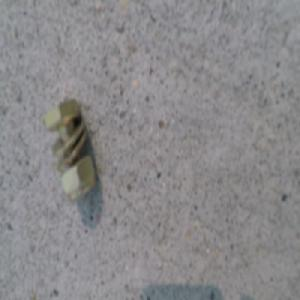BoltNutSet: (53, 100, 102, 203)
